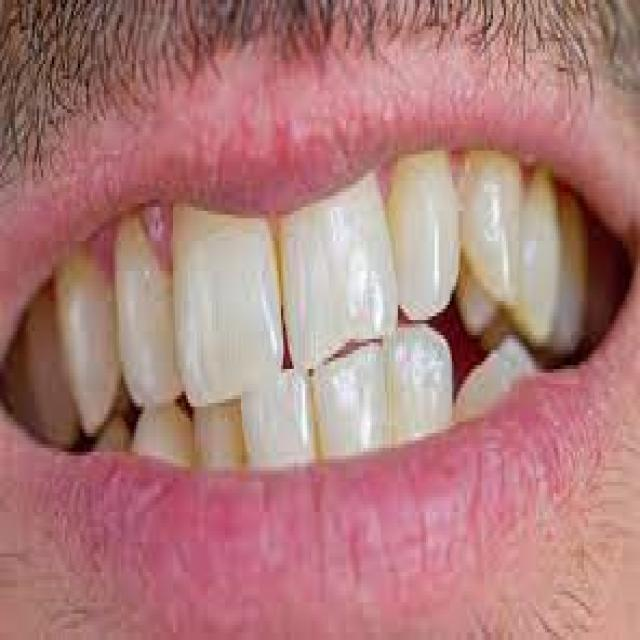tooth: (175, 211, 277, 388), (288, 207, 376, 339), (117, 218, 175, 410), (465, 147, 517, 324), (393, 154, 452, 302), (71, 252, 117, 422), (318, 358, 389, 452), (396, 331, 450, 433), (22, 301, 62, 437), (456, 342, 523, 418), (524, 169, 552, 339), (249, 388, 311, 463), (558, 188, 582, 350), (190, 403, 242, 459), (138, 410, 188, 467), (590, 218, 608, 320), (99, 418, 130, 444)
